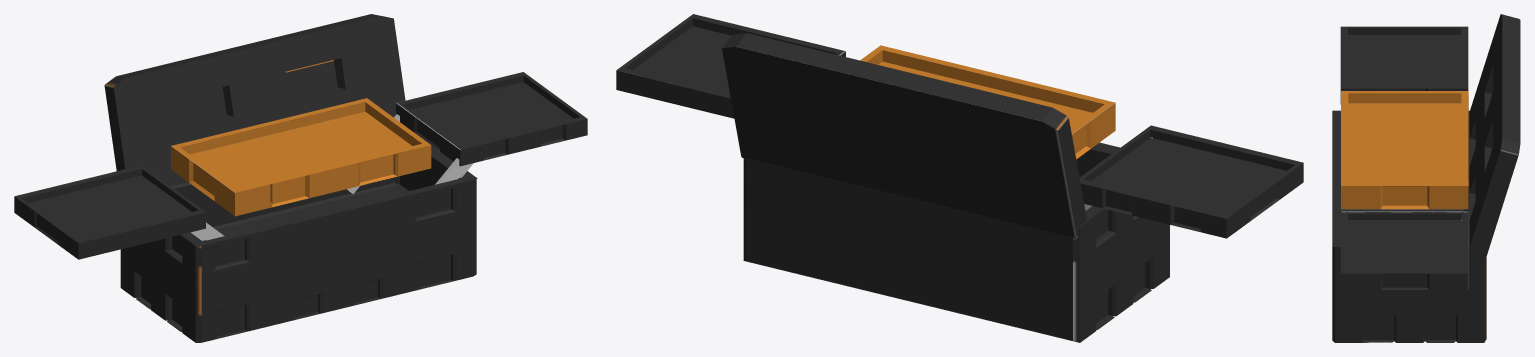
Rendered from ShopKiosk.glb.
The picture shows the model from 3 angles, left to right: view 1: azimuth 30°, elevation 25°; view 2: azimuth 150°, elevation 25°; view 3: azimuth 270°, elevation 25°; orthographic projection. The views are drawn at different scales.
Visible parts, largest first — view 1: Support_L_1; view 2: Support_L_1; view 3: Support_L_1.
Part boxes in pixels (x1,y1,x2,y2): Support_L_1: [14, 14, 587, 342]; Support_L_1: [616, 14, 1303, 342]; Support_L_1: [1332, 14, 1520, 342].
Bounding box in the file's own units: 9.21 × 3.45 × 2.96.
1 material, 1 textured.
